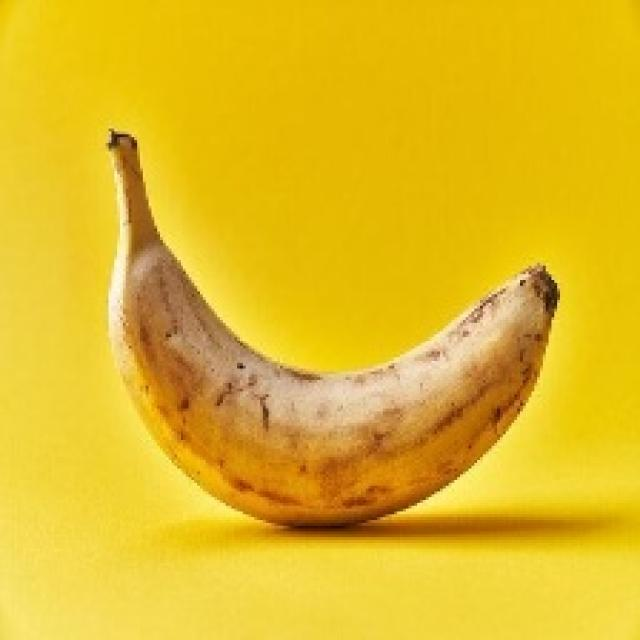Banana: (103, 126, 560, 528)
